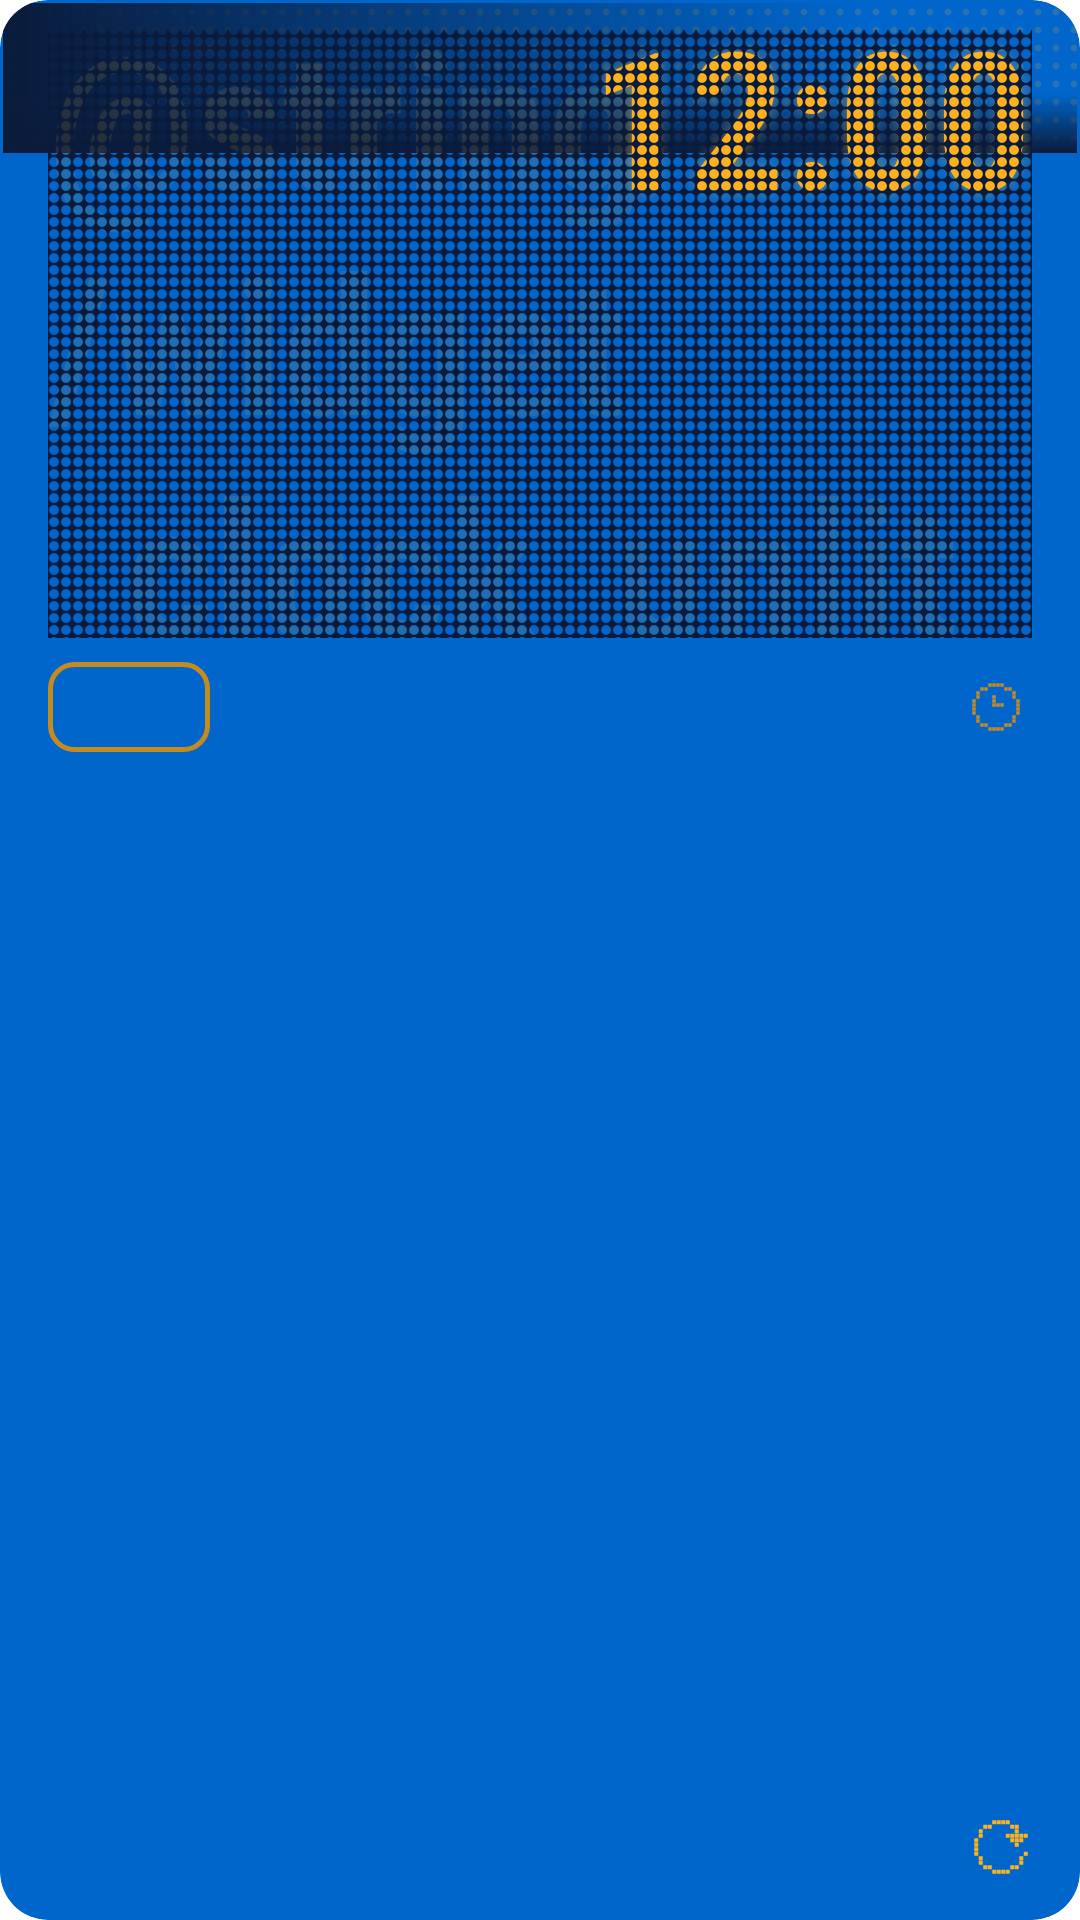

Named icons in this screenshot (1080px x 1920px) and their centers, [x,y]:
widget clock dim: [996,707]
